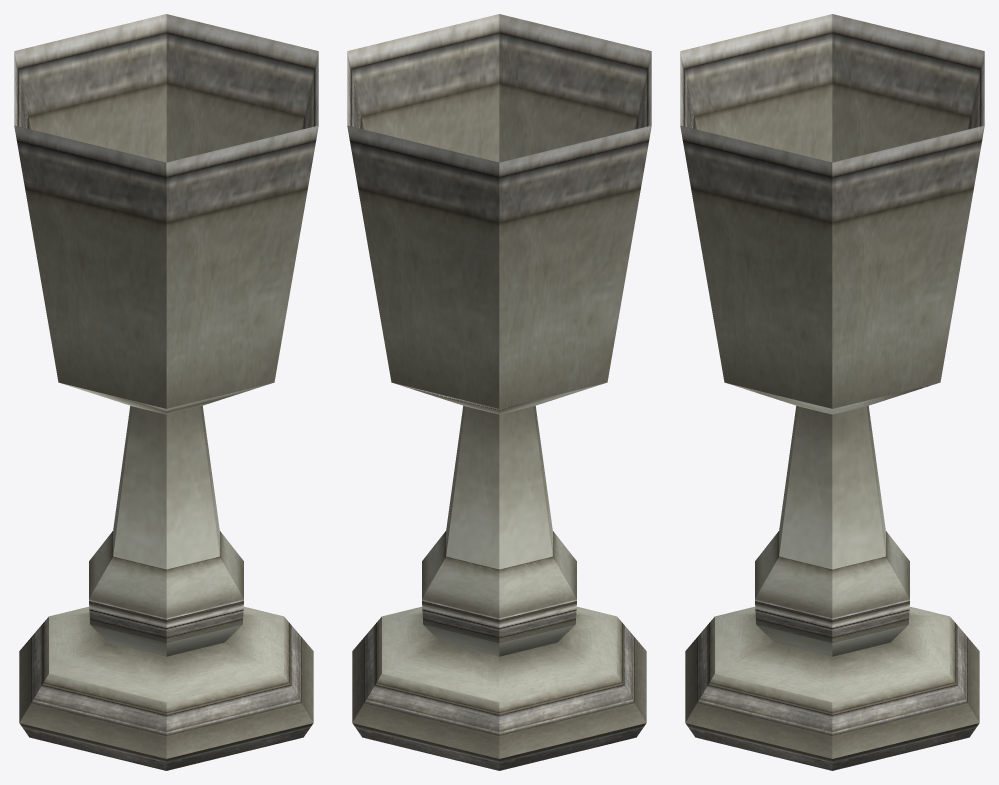
File: mm9_deco_gobletfancy02.glb
The picture shows the model from 3 angles, left to right: view 1: azimuth 30°, elevation 25°; view 2: azimuth 150°, elevation 25°; view 3: azimuth 270°, elevation 25°; orthographic projection.
Parts seen in each view (by area): view 1: Gobletfancy02; view 2: Gobletfancy02; view 3: Gobletfancy02.
Boxes of the visible parts, bbox=[...] form: Gobletfancy02: bbox=[14, 14, 318, 770]; Gobletfancy02: bbox=[347, 14, 651, 770]; Gobletfancy02: bbox=[680, 14, 984, 770].
Size of the model in its own units: 0.2217 by 0.4281 by 0.192.
Materials: 1 (1 with a texture image).
